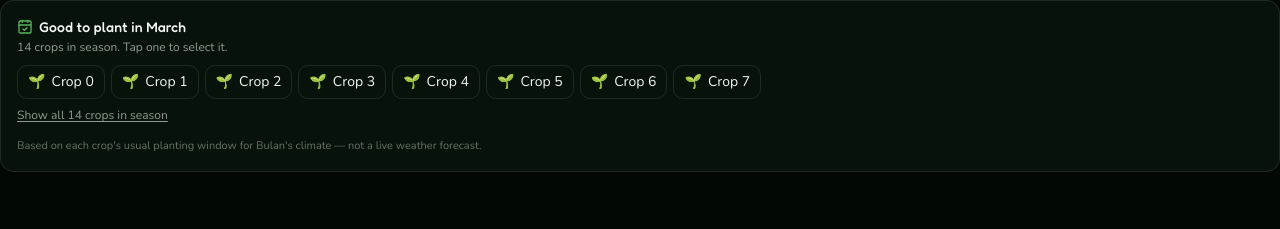
Test: InSeasonCrops › collapses a long list so it cannot swamp the form
Click the button "Show all 14 crops in season": (92, 115) [17,107,168,123]
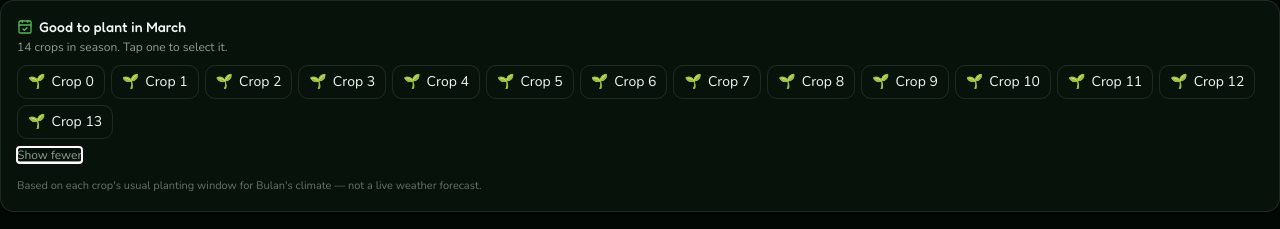
Expected: the number of buttons "🌱 Crop 0" is 14
Expected: the button "Show fewer" is shown, [17,147,82,163]
